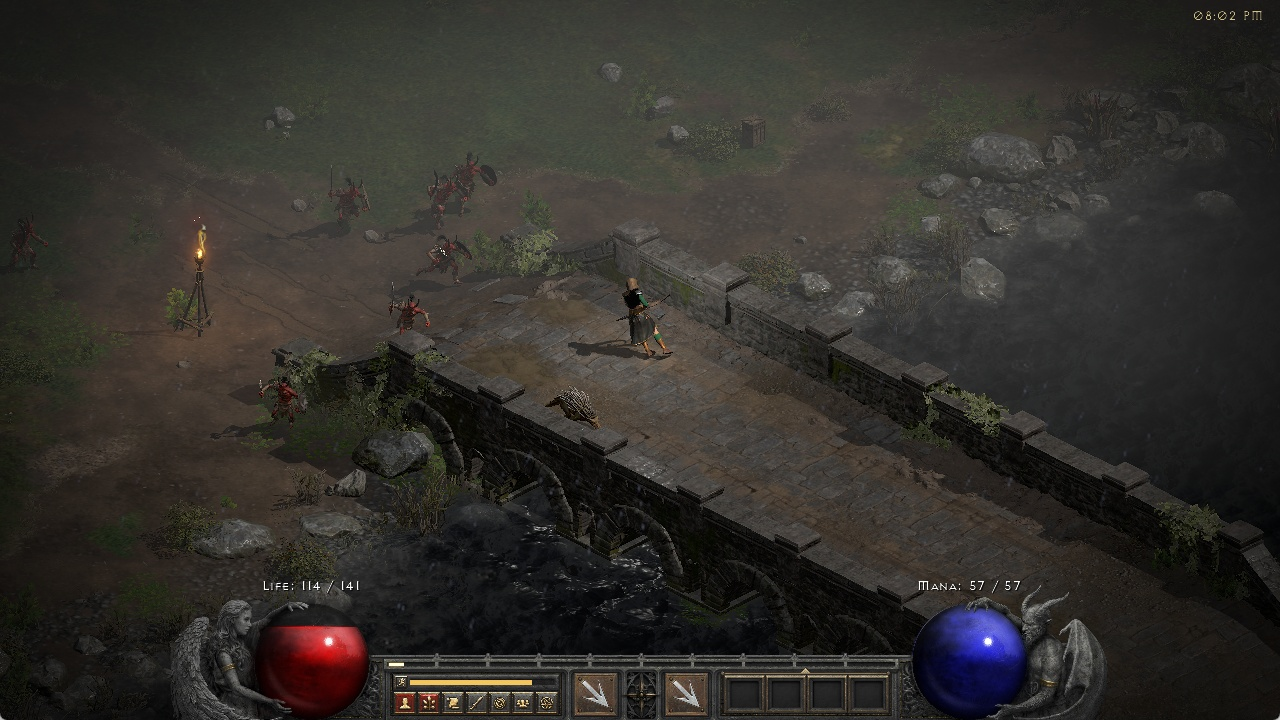fallen: (325, 165, 375, 228), (418, 235, 472, 284), (255, 376, 302, 426), (384, 288, 431, 334), (9, 214, 49, 267), (456, 154, 491, 199), (425, 174, 457, 219)
